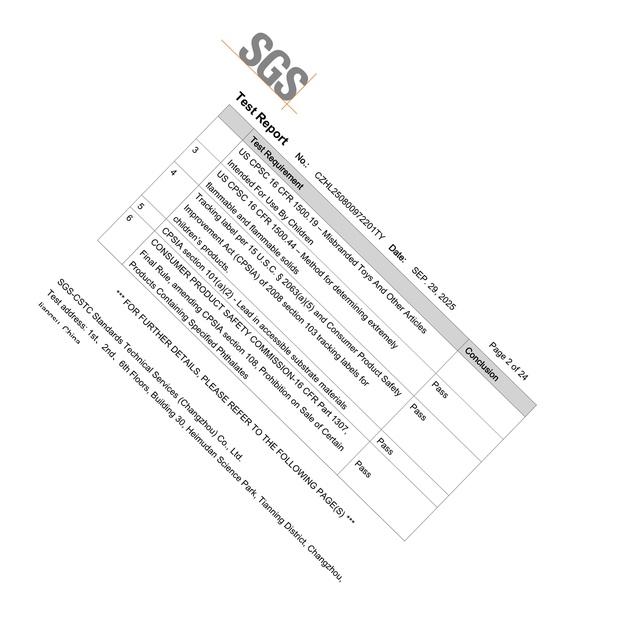sgs: (239, 33, 309, 101)
